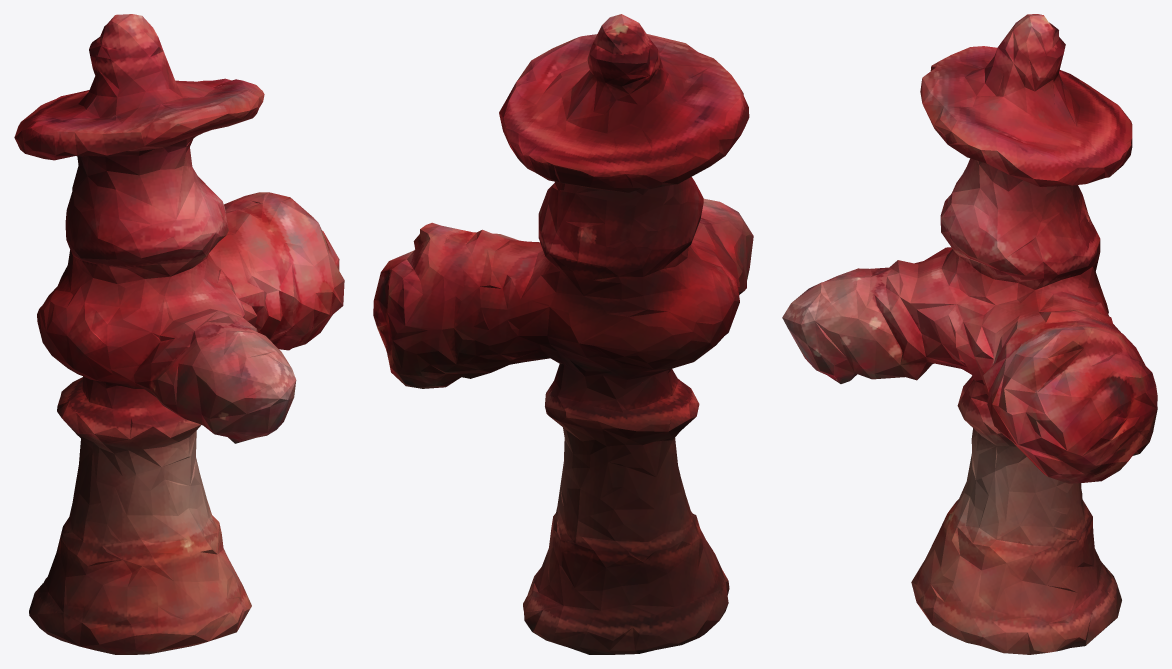
Rendered from hydrant.obj.
3 renders of one model, left to right at view 1: azimuth 30°, elevation 25°; view 2: azimuth 150°, elevation 25°; view 3: azimuth 270°, elevation 25°, orthographic. The views are drawn at different scales.
Bounding box in the file's own units: 0.4507 × 0.8019 × 0.4528.
Materials: 1 (1 with a texture image).
